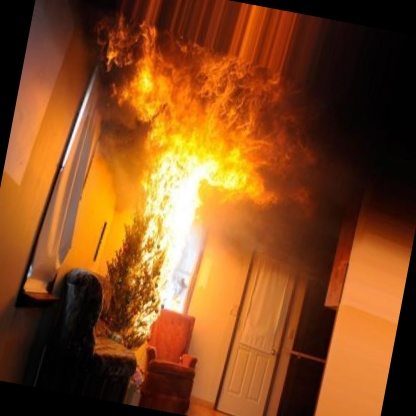fire: (24, 0, 324, 364)
